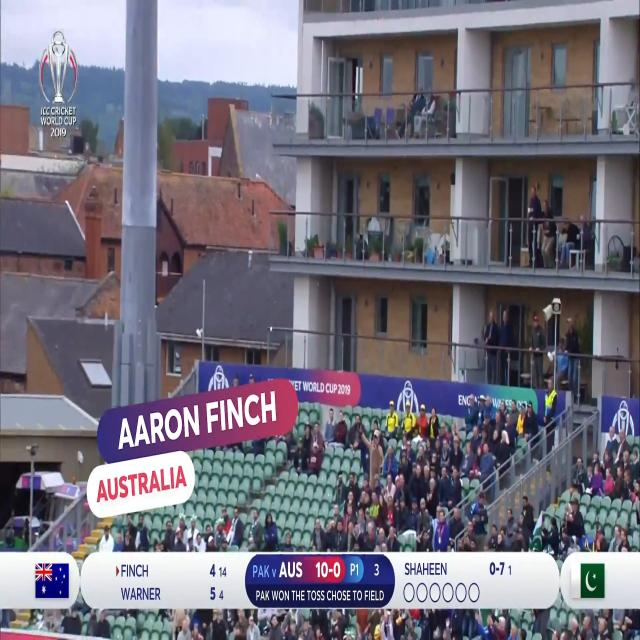ball: (262, 314, 278, 344)
